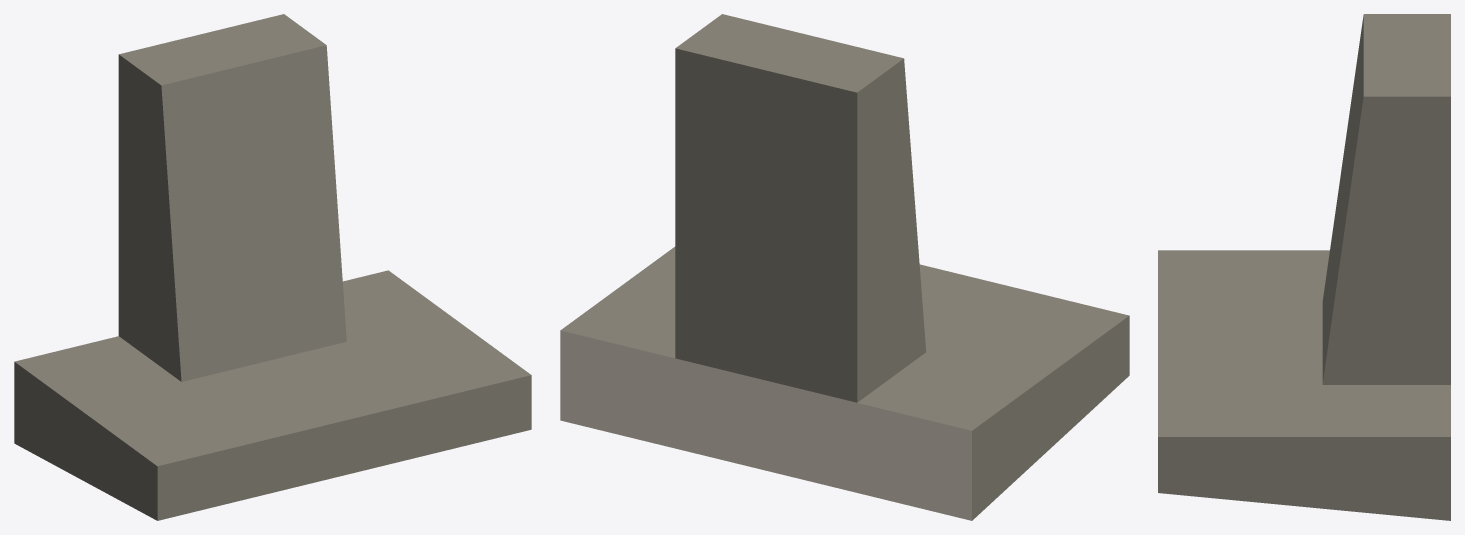
Rendered from hoodModern.glb.
3 views of the same model, side by side, from view 1: azimuth 30°, elevation 25°; view 2: azimuth 150°, elevation 25°; view 3: azimuth 270°, elevation 25° (orthographic). The views are drawn at different scales.
Visible parts, largest first — view 1: Mesh_hoodModern; view 2: Mesh_hoodModern, Mesh_hoodModern_1; view 3: Mesh_hoodModern.
Part boxes in pixels (x1=…): Mesh_hoodModern: x1=14, y1=14, x2=531, y2=520; Mesh_hoodModern: x1=561, y1=14, x2=1129, y2=520; Mesh_hoodModern_1: x1=560, y1=330, x2=971, y2=520; Mesh_hoodModern: x1=1158, y1=14, x2=1450, y2=520.
Bounding box in the file's own units: 0.86 × 0.7991 × 0.5698.
